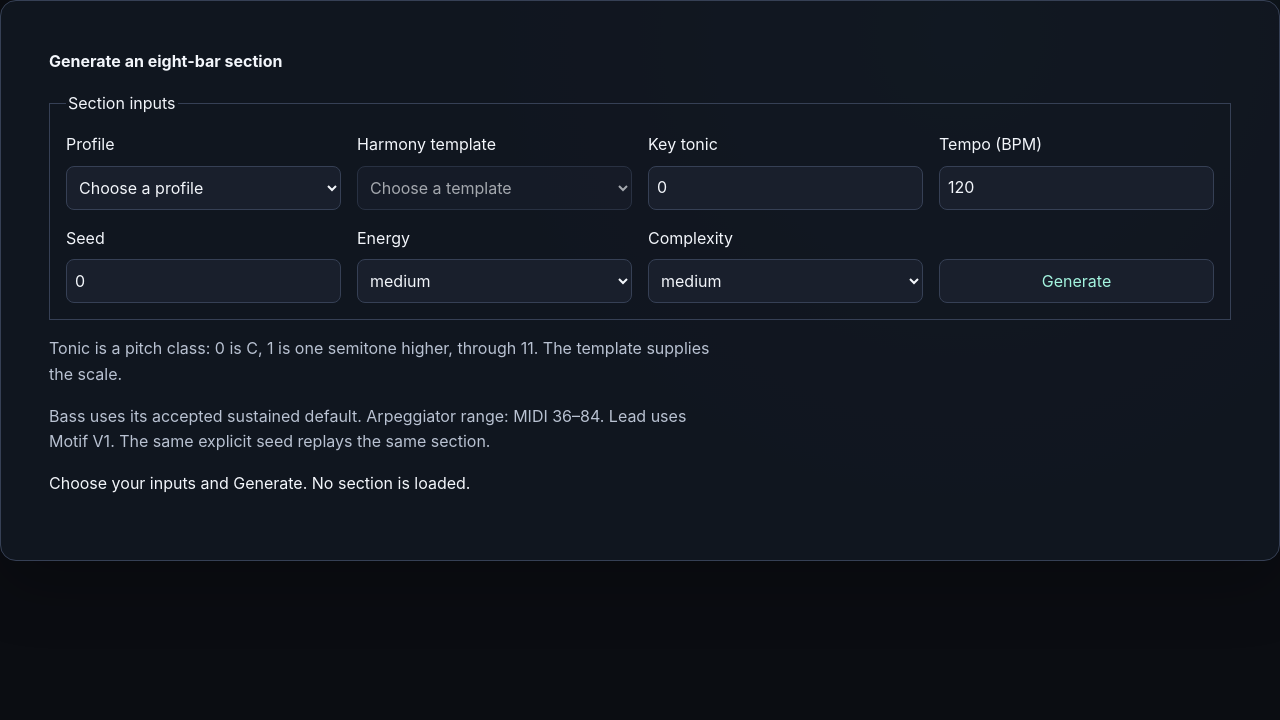
Test: Generate section consumer › fails closed for malformed local start context and disables Snap Start with no selected note
Select "dark-synthwave" in the dropdown labelled "Profile" at [204, 188], box [66,166,341,210]
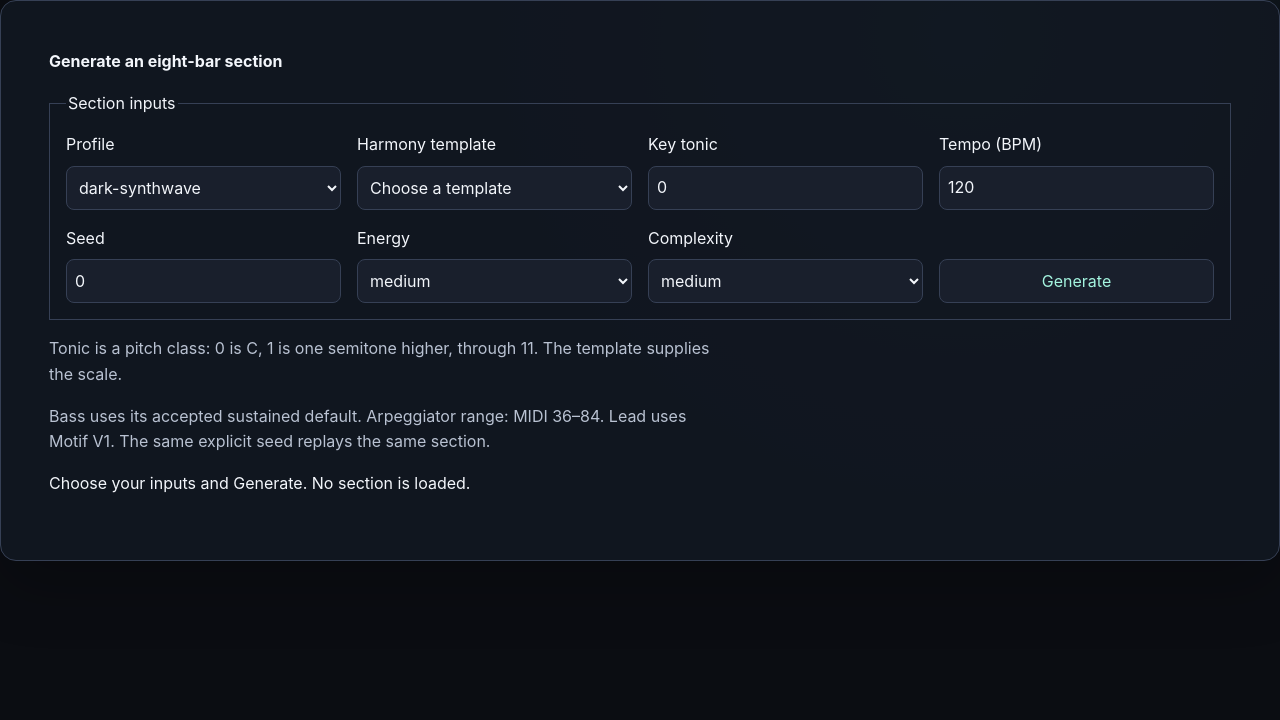
Select "degree-0654-natural-minor-v1 (natural-minor)" in the dropdown labelled "Harmony template" at [494, 188], box [357,166,632,210]
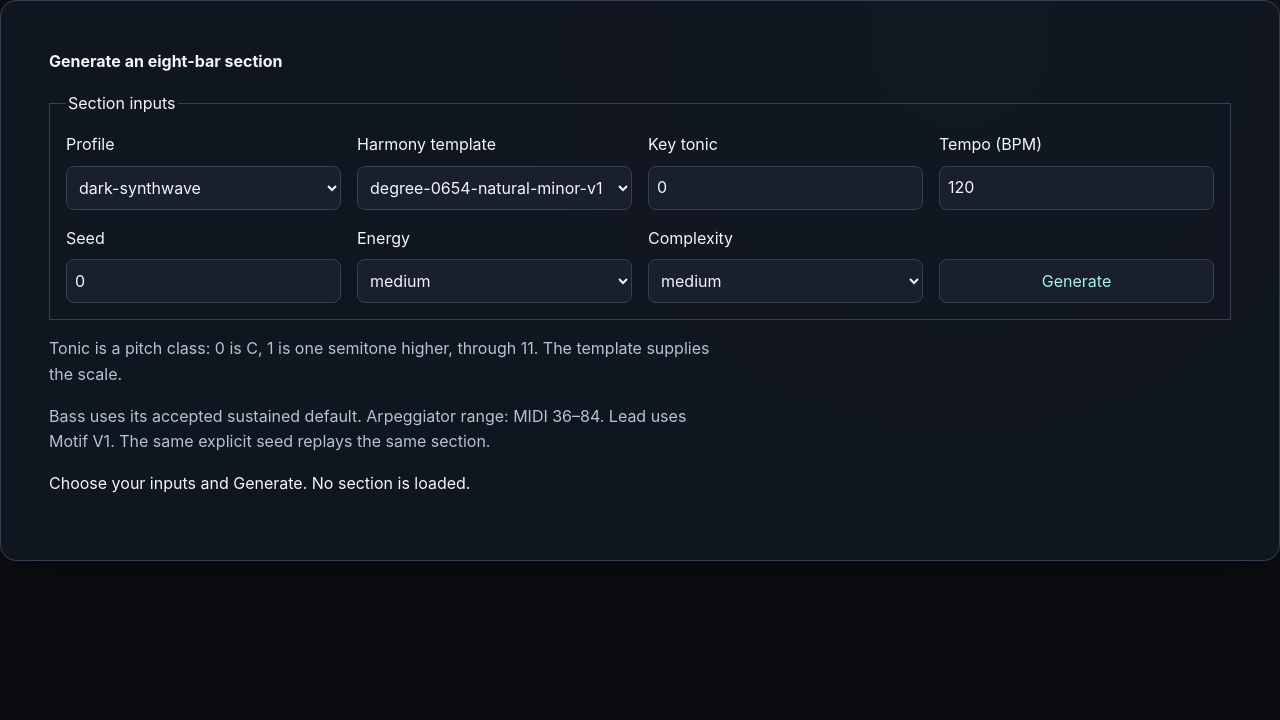
Submit the form named "Generate", box [49,91,1231,320]
(page scrolled)
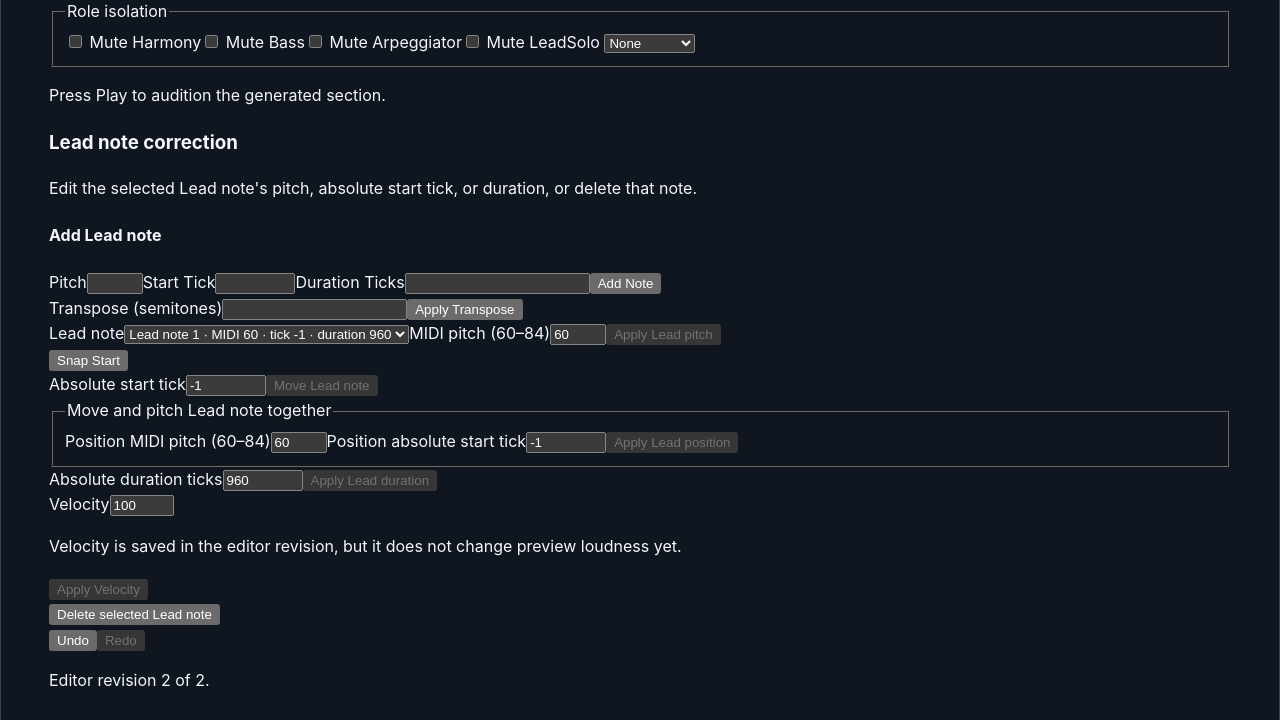
Click the button "Snap Start" at [88, 360], box [49,350,128,371]
(page scrolled)
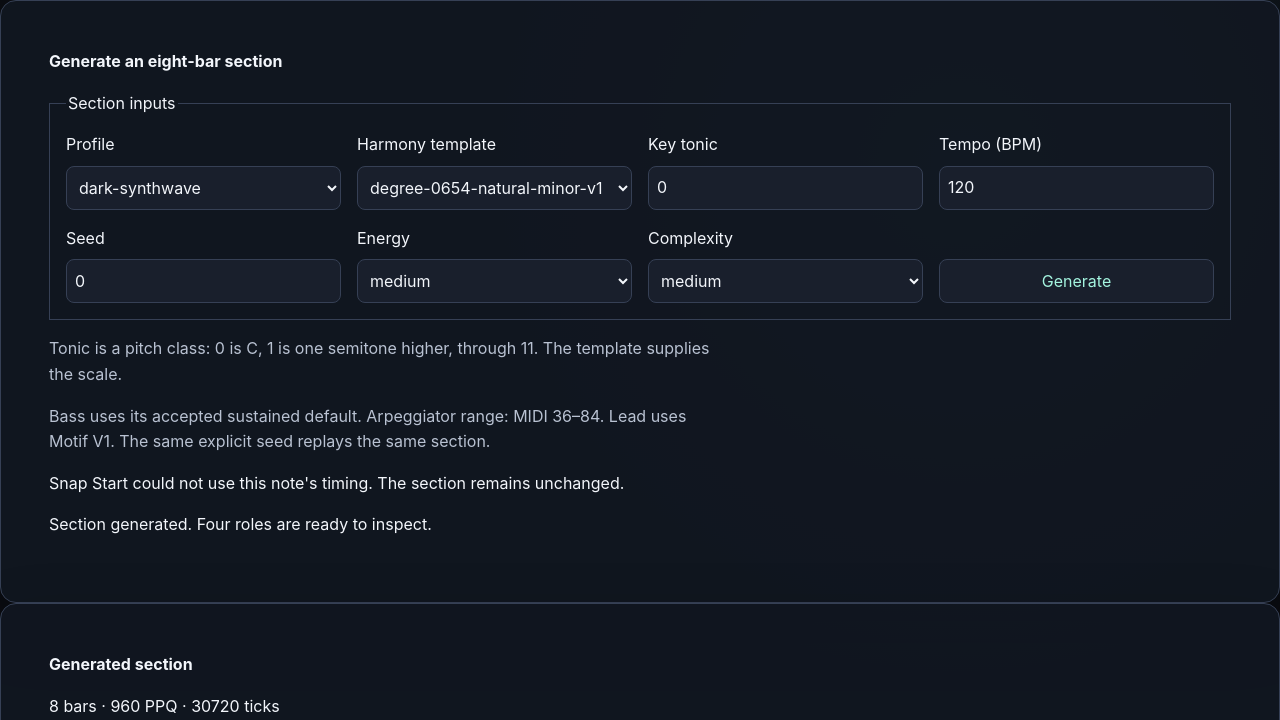
Expected: the message "Snap Start could not use this note's timing. The section remains unchanged." is shown, [49,473,624,493]
Submit the form named "Generate", box [49,91,1231,320]
(page scrolled)
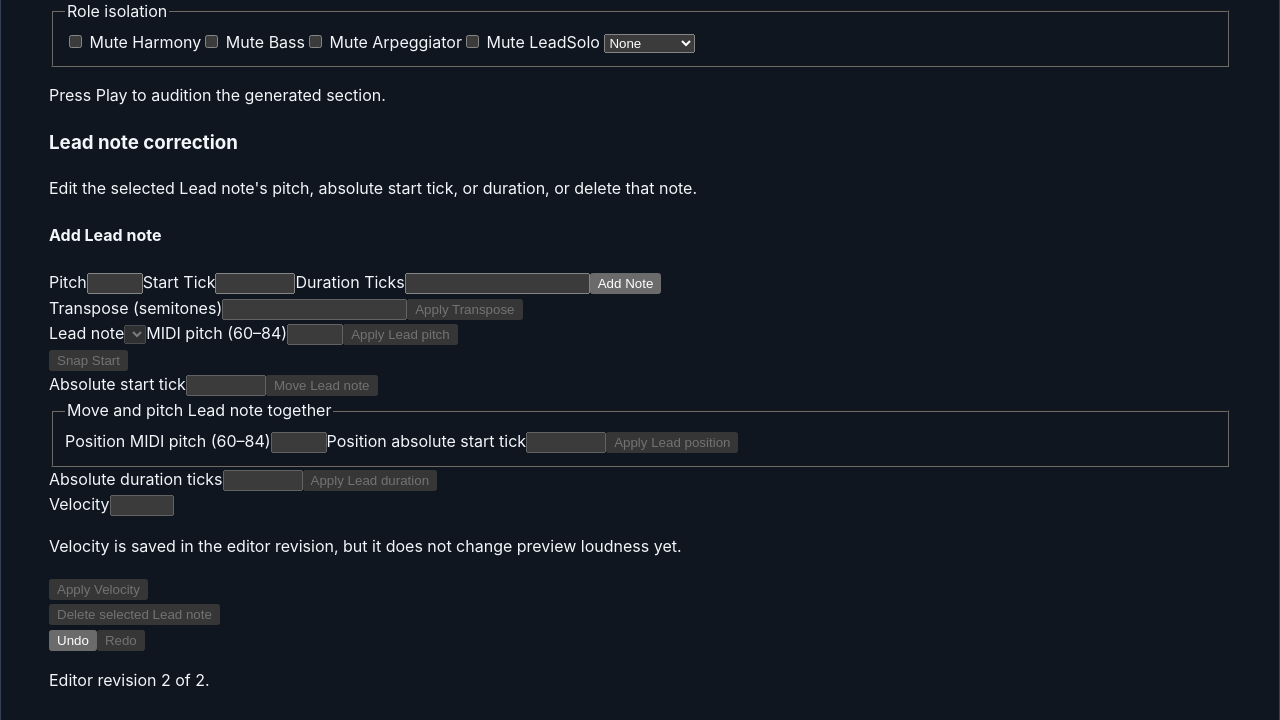
Expected: the button "Snap Start" is disabled, [49,350,128,371]
